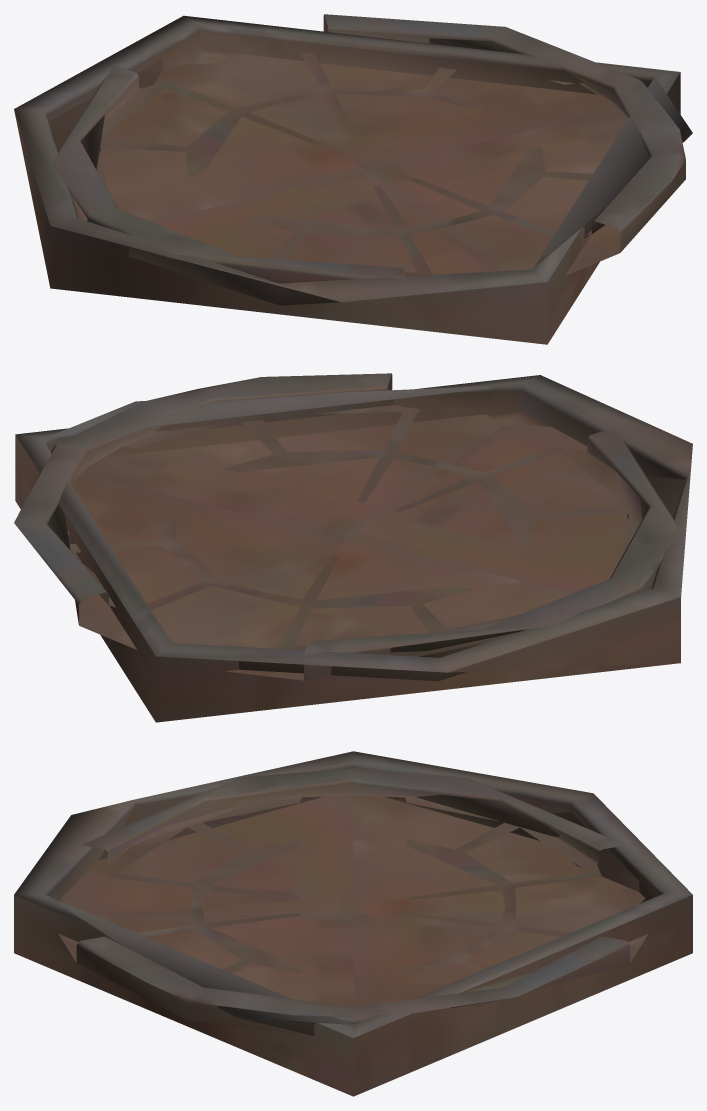
File: plaque_egout_lod2.glb
The picture shows the model from 3 angles, top to bottom: view 1: azimuth 30°, elevation 25°; view 2: azimuth 150°, elevation 25°; view 3: azimuth 270°, elevation 25°; orthographic projection. The views are drawn at different scales.
Parts seen in each view (by area): view 1: water_manhole_cover_frame; view 2: water_manhole_cover_frame; view 3: water_manhole_cover_frame.
Boxes of the visible parts, <box> form: water_manhole_cover_frame: <box>14,14,692,344</box>; water_manhole_cover_frame: <box>14,373,692,722</box>; water_manhole_cover_frame: <box>14,751,692,1096</box>.
Size of the model in its own units: 0.6908 by 0.0676 by 0.6908.
1 material, 1 textured.
